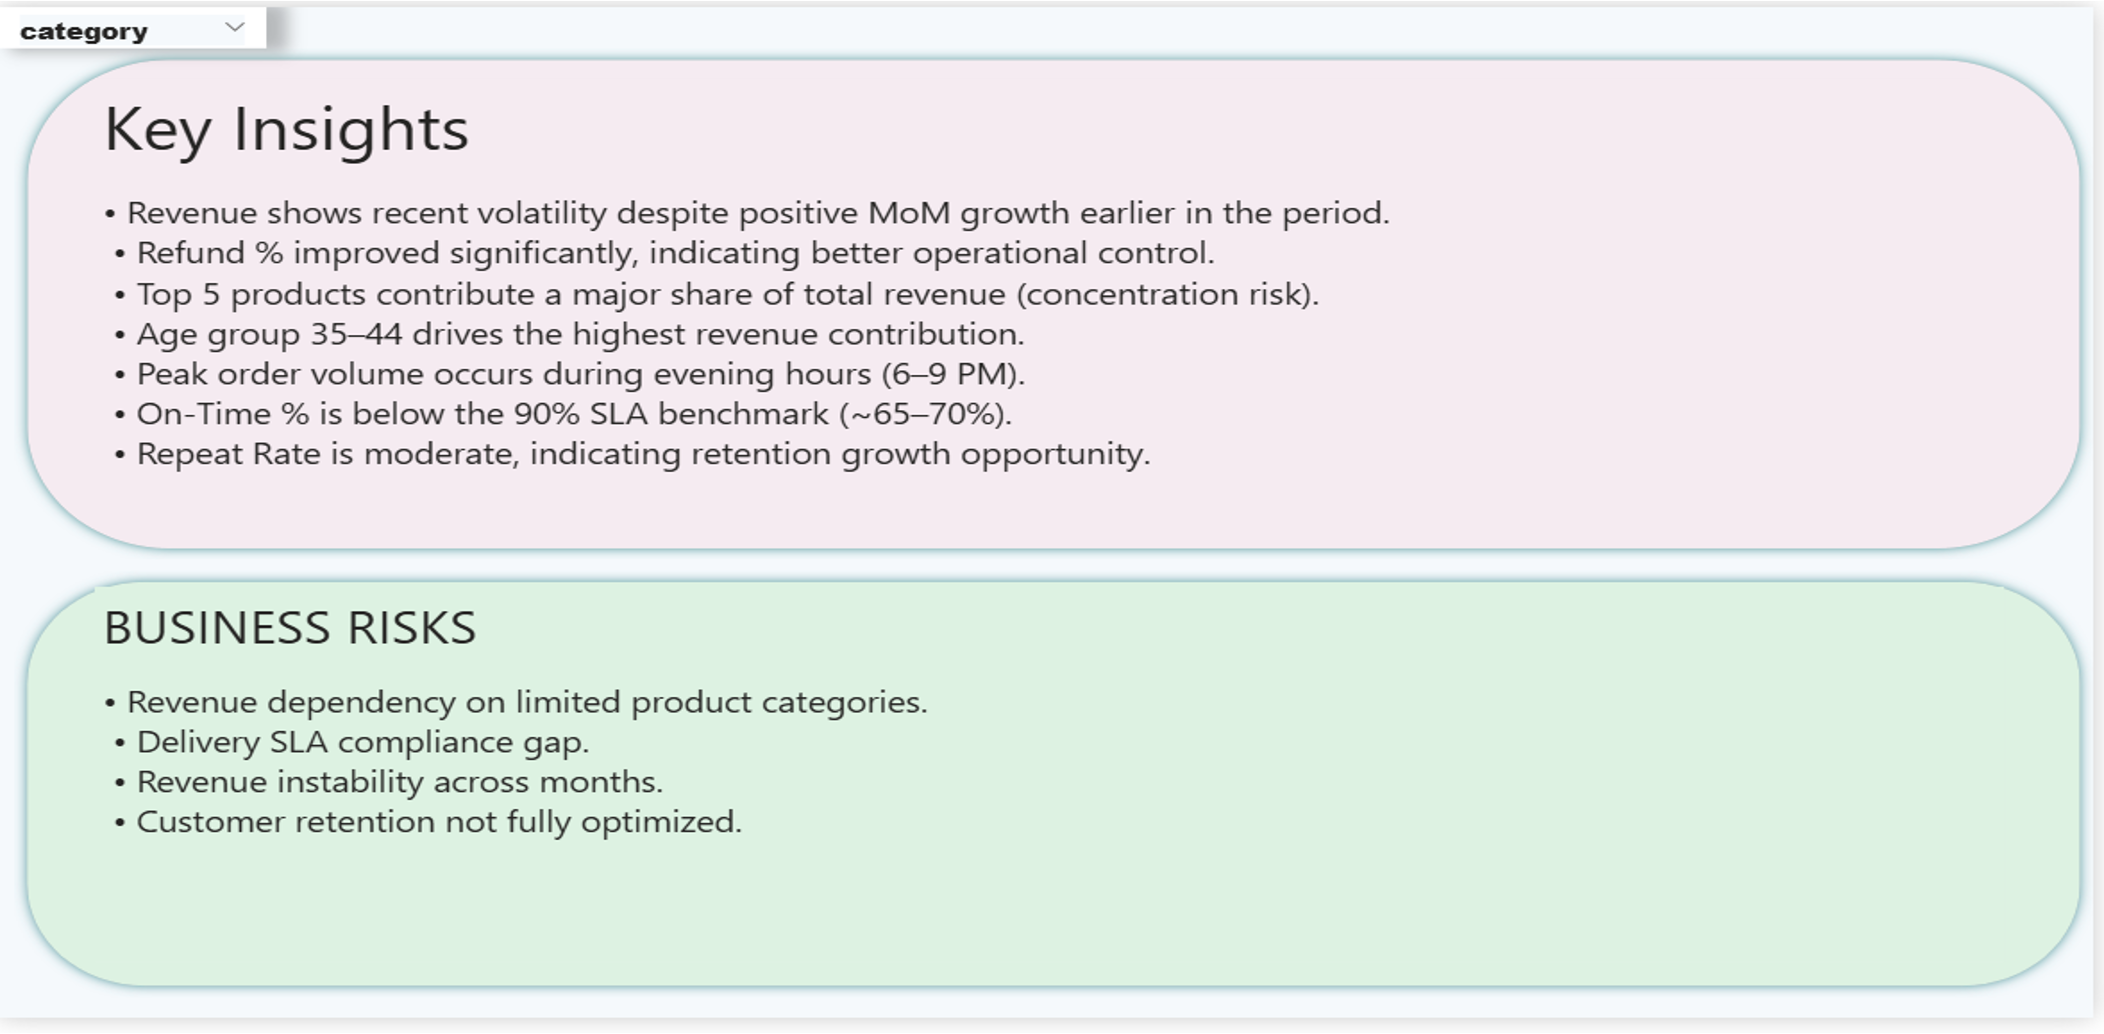

Layout of this report page (visuals, bound fields, positions):
{"tool":"powerbi","page":{"name":"Key Insights & Recommendations","canvas":[1280,720],"ordinal":4},"visuals":[{"type":"shape","box":[9.5,30.2,1270.9,364.2],"z":0},{"type":"shape","box":[9.5,400.8,1270.9,303.8],"z":1000},{"type":"textbox","box":[58.9,413.6,1167.5,267.2],"z":2000},{"type":"textbox","box":[58.9,50.9,1146.8,308.6],"z":3000},{"type":"slicer","fields":{"Values":["products.category"]},"box":[0,0,163.9,29.5],"z":4000}]}

Visuals, with their boxes on the page's 1280x720 design canvas (x1, y1, x2, y2). These are canvas units, not pixel positions in the 2104x1034 screenshot, which may show the page scaled, cropped or inside an application window:
shape: 10:30:1280:394
shape: 10:401:1280:705
textbox: 59:414:1226:681
textbox: 59:51:1206:360
slicer - products.category: 0:0:164:30
